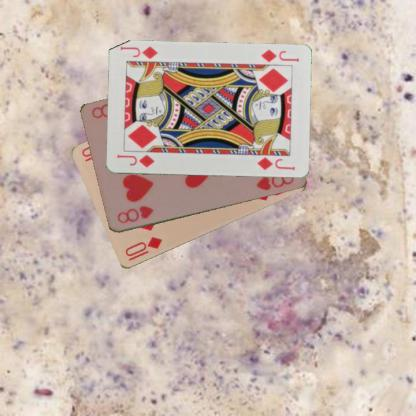10d: (122, 234, 164, 263)
8h: (114, 204, 155, 226)
Jd: (258, 47, 300, 64), (115, 152, 156, 169)
